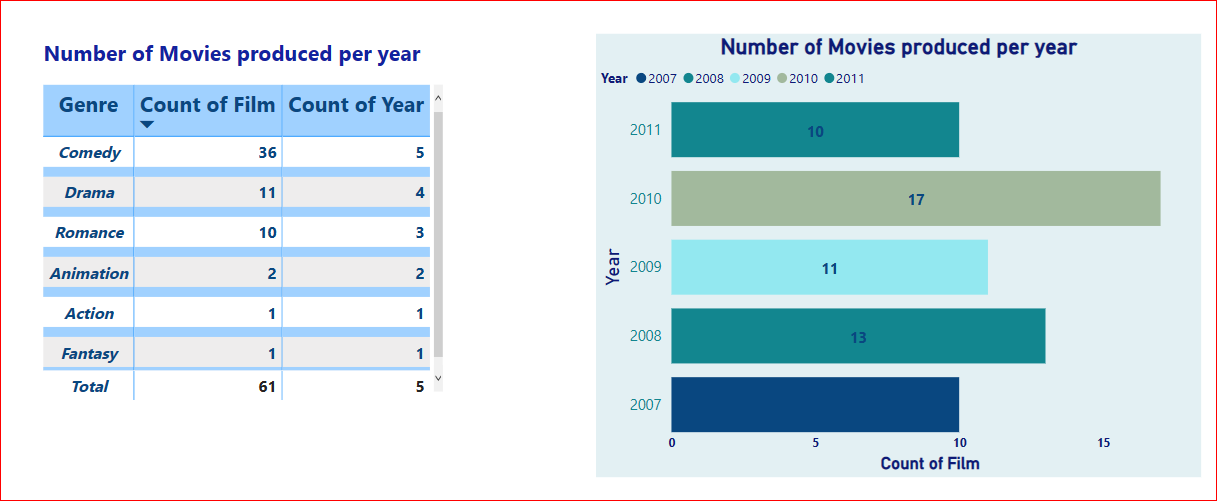

This screenshot's page, from the dashboard's own definition file:
{"tool":"powerbi","page":{"name":"Page 3","canvas":[1280,720],"ordinal":2},"visuals":[{"type":"pivotTable","fields":{"Values":["Count(clean_df.Film)","Count(clean_df.Year)"],"Rows":["clean_df.Genre"]},"box":[82.3,85.1,408.9,325.2],"z":0},{"type":"barChart","title":"Number of Movies produced per year","fields":{"Category":["clean_df.Year"],"Y":["Count(clean_df.Film)"],"Series":["clean_df.Year"]},"box":[639.5,38.4,605.1,443.2],"z":1000},{"type":"textbox","box":[82.3,37,444.6,48],"z":2000}]}

Visuals, with their boxes on the page's 1280x720 design canvas (x1, y1, x2, y2). These are canvas units, not pixel positions in the 1217x501 screenshot, which may show the page scaled, cropped or inside an application window:
pivotTable - Count(clean_df.Film) x Count(clean_df.Year): (82,85,491,410)
"Number of Movies produced per year" barChart: (640,38,1245,482)
textbox: (82,37,527,85)
